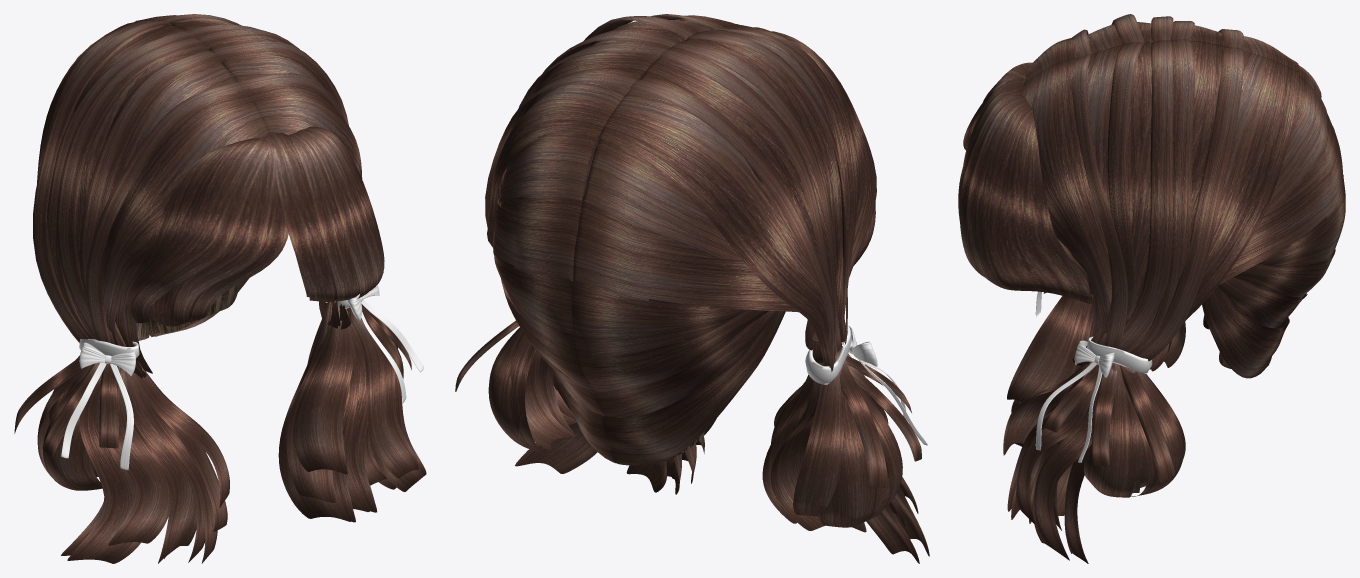
File: Hair2.glb
The picture shows the model from 3 angles, left to right: view 1: azimuth 30°, elevation 25°; view 2: azimuth 150°, elevation 25°; view 3: azimuth 270°, elevation 25°; orthographic projection. The views are drawn at different scales.
Parts seen in each view (by area): view 1: SallyMae for Genesis; view 2: SallyMae for Genesis; view 3: SallyMae for Genesis.
Part boxes in pixels (<box>): SallyMae for Genesis: <box>14,14,426,563</box>; SallyMae for Genesis: <box>455,14,929,563</box>; SallyMae for Genesis: <box>958,14,1345,563</box>.
Size of the model in its own units: 5.45 by 6.17 by 4.85.
Materials: 9 (9 with a texture image).
